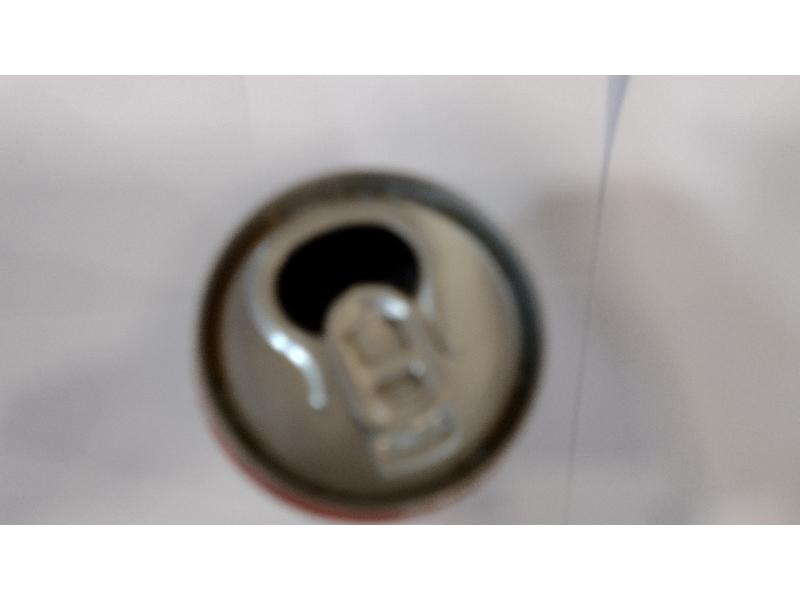can: (189, 167, 545, 517)
